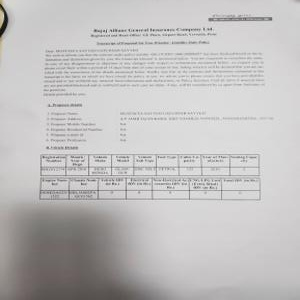table: (39, 152, 261, 177), (40, 175, 261, 200)
text: (45, 48, 266, 96), (44, 101, 274, 145), (87, 27, 219, 46)
